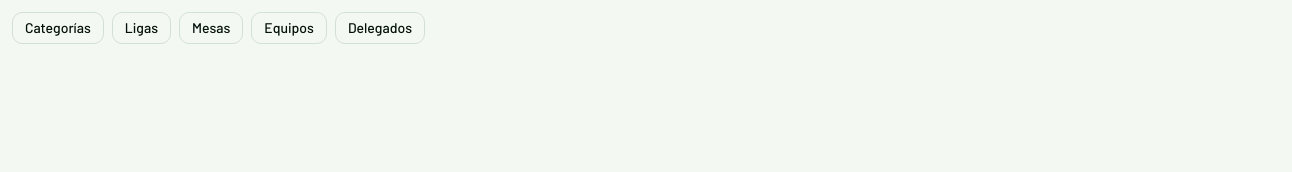
Test case: ActividadCliente (plataforma, solo lectura) › delegados: marca a quien nunca ha entrado
The image size is (1292, 172).
Click the button "Delegados". click: click(380, 28)
box: [335,12,425,44]
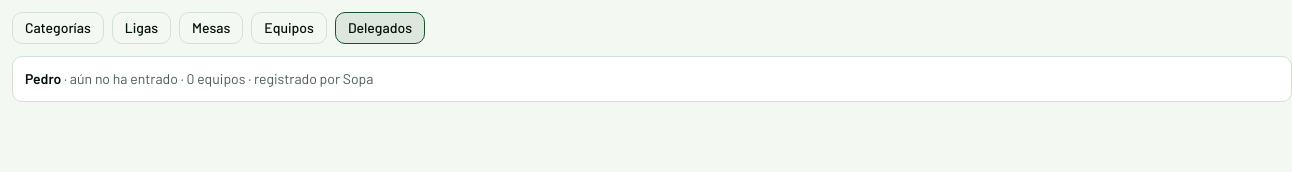
Result: the list named "Delegados del cliente" shows "Pedro" at [25,70,61,87]
Result: the list named "Delegados del cliente" shows "aún no ha entrado" at [61,70,178,87]
Result: the list named "Delegados del cliente" shows "0 equipos" at [12,56,1291,102]
